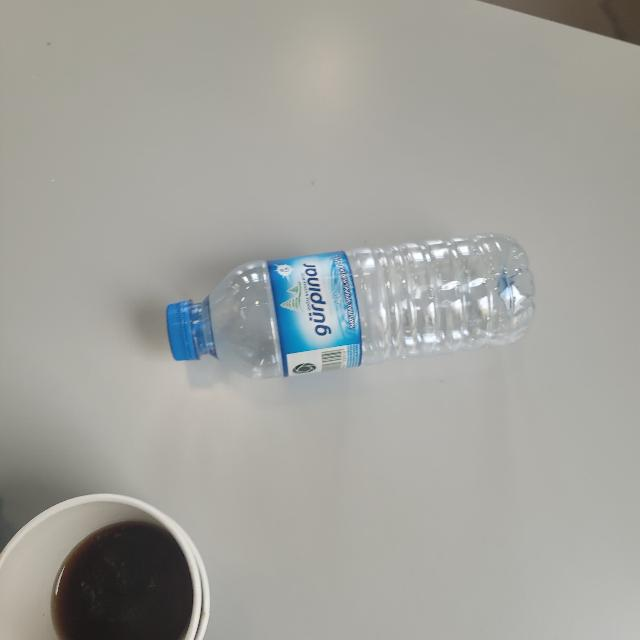Kagit: (0, 488, 221, 640)
Plastik: (162, 229, 538, 383)
